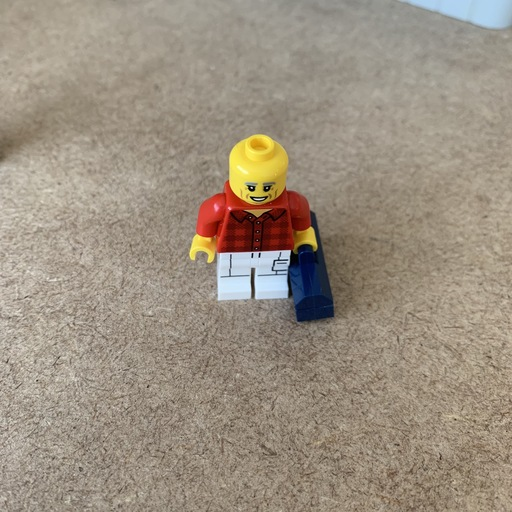human: (186, 122, 343, 336)
